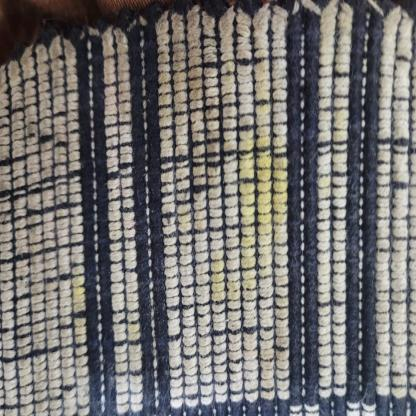spot: (232, 94, 293, 256), (198, 232, 263, 298), (224, 141, 294, 192), (249, 126, 283, 221), (71, 264, 97, 306)
